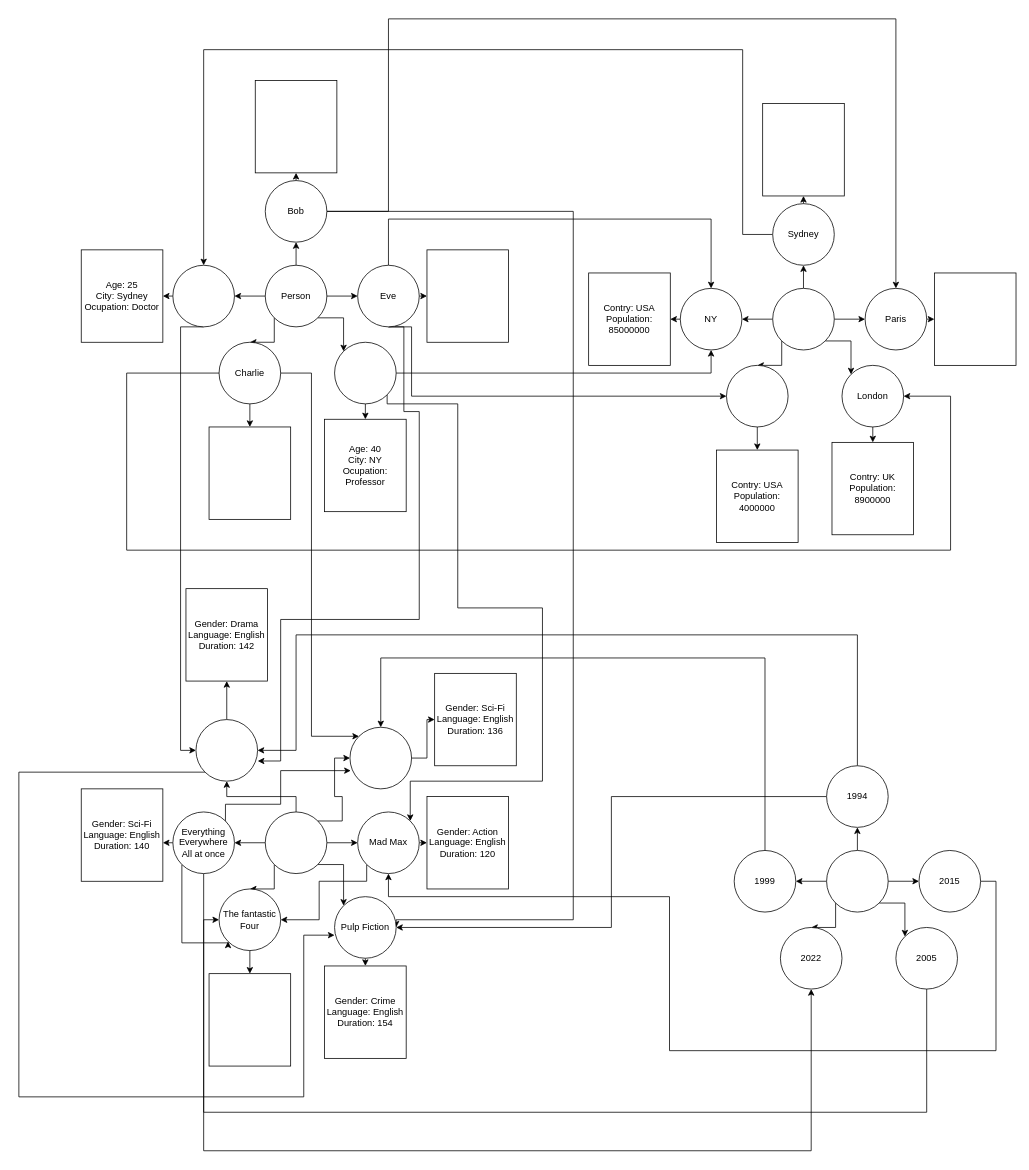
Some shapes in this 1029 by 1170 pixel diagram are drawn without their labels. Here are the shapes that lost their labels. From the top down, the box of each, then its label:
(254, 80, 337, 173): Age: 30 City: Sydney Ocupation: Engineer
(762, 103, 844, 196): Contry: Australia Population: 5000000
(172, 264, 234, 327): Alice
(426, 249, 509, 342): Age: 45 City: Los Angeles Ocupation: Artist
(772, 288, 834, 350): Place
(934, 272, 1016, 365): Contry: France Population: 2200000
(334, 341, 396, 404): Dave
(726, 365, 788, 427): Los Angeles
(208, 426, 291, 519): Age: 35 City: Sydney Ocupation: Lawyer
(195, 719, 258, 781): Foorest Gump
(349, 726, 412, 789): The matrix
(264, 811, 327, 874): Movie
(826, 850, 888, 912): Year
(208, 973, 291, 1066): Gender: Action Language: English Duration: 100
